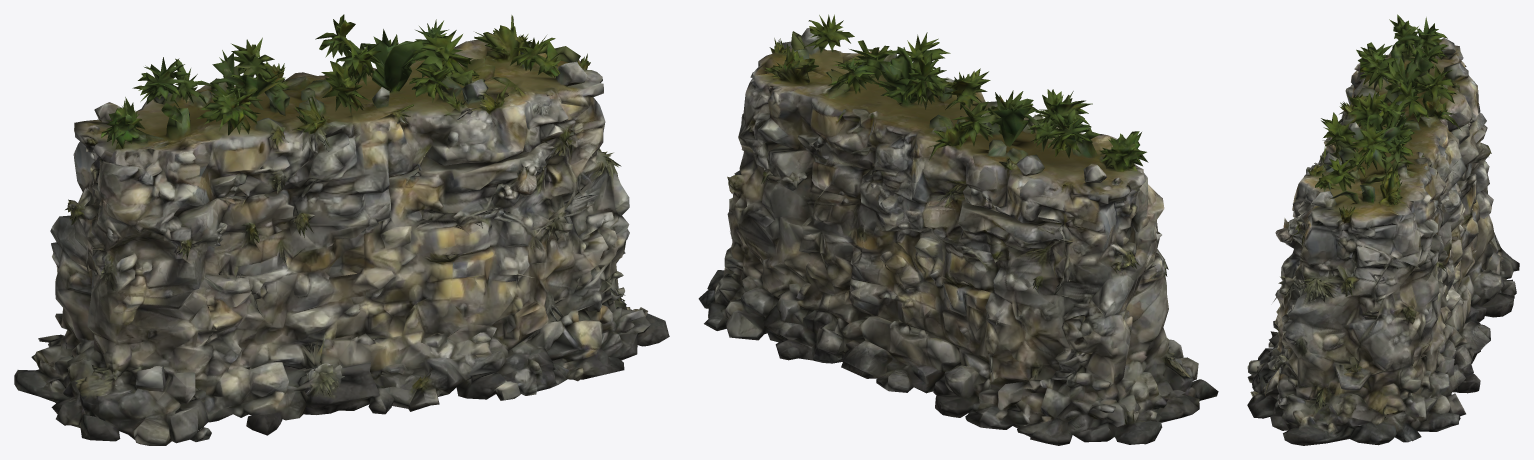
File: limestone-bluff.glb
The picture shows the model from 3 angles, left to right: view 1: azimuth 30°, elevation 25°; view 2: azimuth 150°, elevation 25°; view 3: azimuth 270°, elevation 25°; orthographic projection. The views are drawn at different scales.
Visible parts, largest first — view 1: tripo_node_d6247897-643b-461a-9817-e43a51d74aa3; view 2: tripo_node_d6247897-643b-461a-9817-e43a51d74aa3; view 3: tripo_node_d6247897-643b-461a-9817-e43a51d74aa3.
Boxes of the visible parts, x1,y1,x2,y2 form: tripo_node_d6247897-643b-461a-9817-e43a51d74aa3: (14,14,669,445); tripo_node_d6247897-643b-461a-9817-e43a51d74aa3: (698,14,1218,445); tripo_node_d6247897-643b-461a-9817-e43a51d74aa3: (1247,14,1519,445).
Bounding box in the file's own units: 0.9778 × 0.5673 × 0.5219.
Materials: 1 (1 with a texture image).
